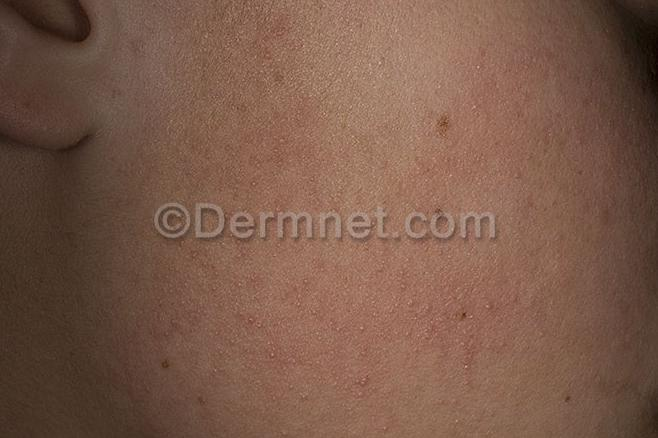edema 1: (143, 224, 540, 421)
eritema 1: (165, 12, 612, 406)
